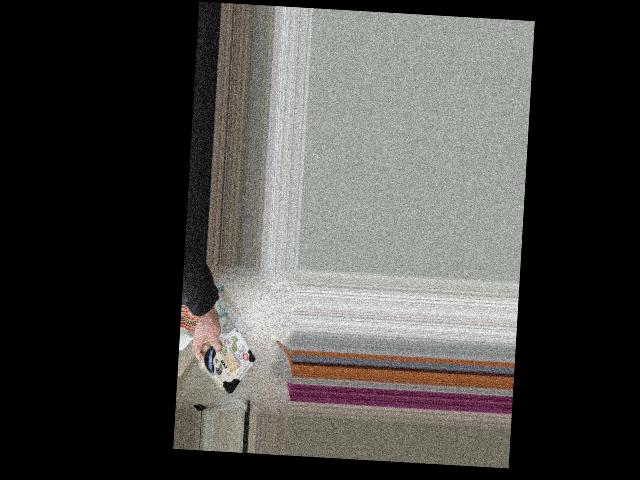cheese: (185, 335, 262, 393)
